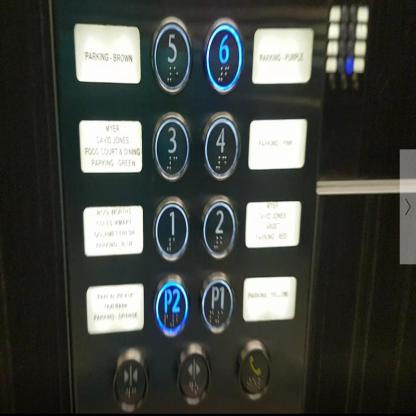1: (152, 193, 192, 264)
2: (200, 194, 238, 262)
3: (150, 108, 192, 182)
4: (200, 108, 242, 182)
5: (150, 13, 194, 96)
6: (202, 14, 246, 95)
P1: (199, 270, 236, 337)
P2: (152, 270, 192, 338)
call: (234, 336, 273, 402)
close: (110, 342, 149, 416)
open: (174, 340, 212, 406)
